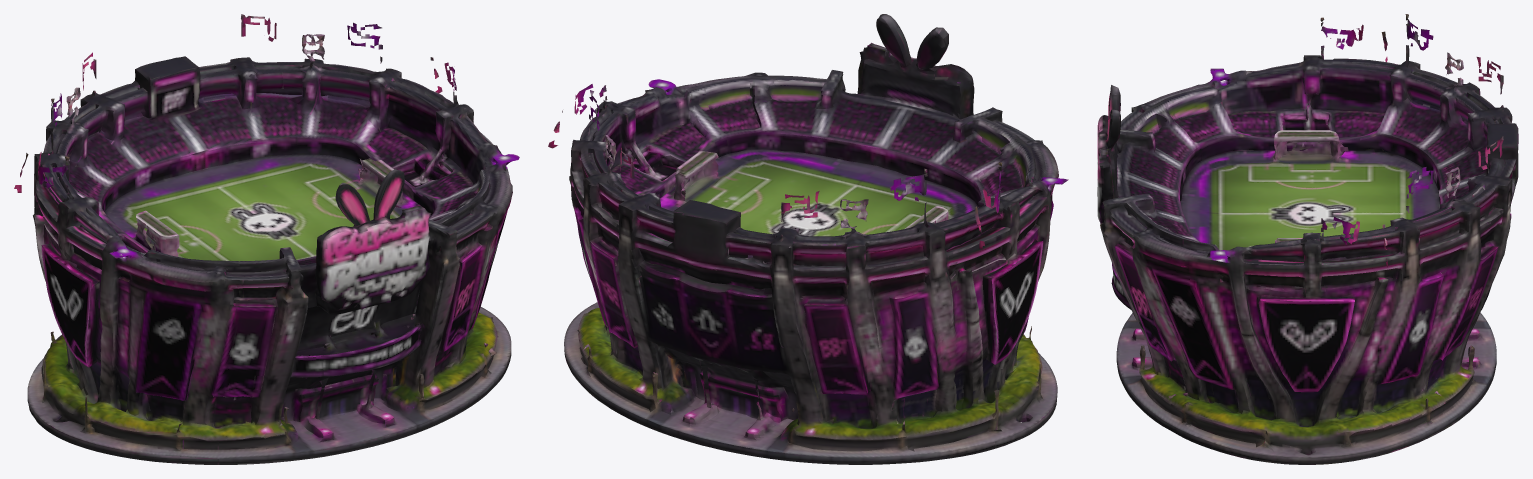
Rendered from arena-v2.glb.
3 views of the same model, side by side, from view 1: azimuth 30°, elevation 25°; view 2: azimuth 150°, elevation 25°; view 3: azimuth 270°, elevation 25° (orthographic). The views are drawn at different scales.
Visible parts, largest first — view 1: Mesh0; view 2: Mesh0; view 3: Mesh0.
Part boxes in pixels (x1=…): Mesh0: x1=14, y1=14, x2=519, y2=464; Mesh0: x1=548, y1=14, x2=1068, y2=464; Mesh0: x1=1097, y1=14, x2=1518, y2=464.
Bounding box in the file's own units: 1.91 × 1.14 × 1.62.
Materials: 1 (1 with a texture image).
